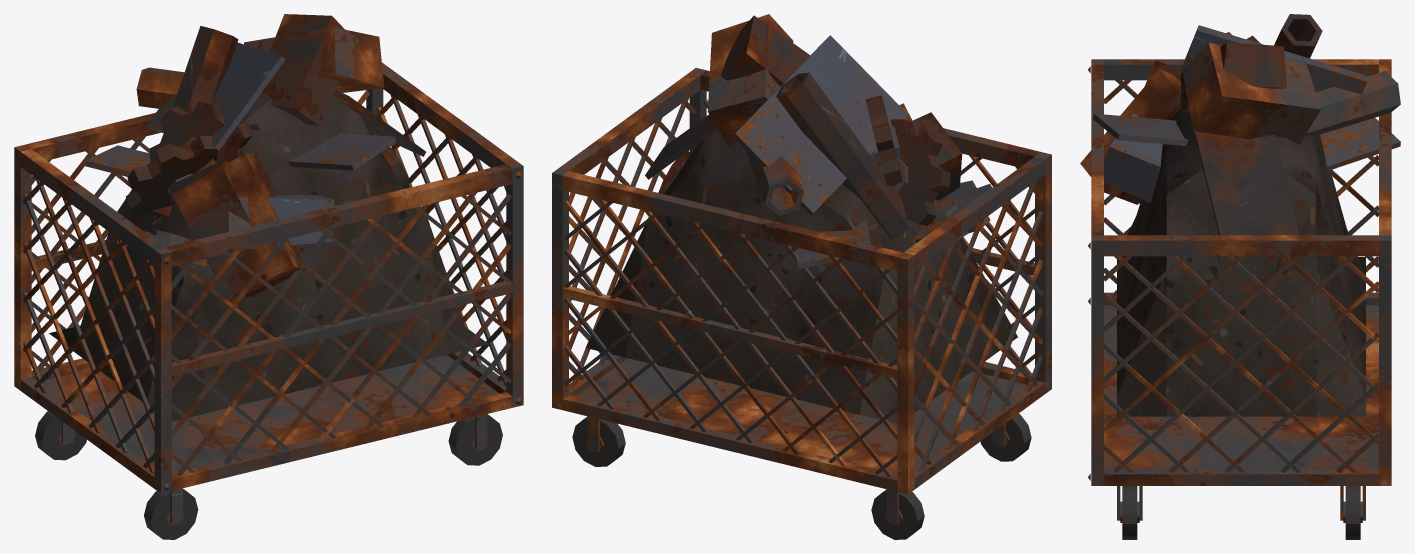
Rendered from Scrap_Basket_Full.glb.
3 renders of one model, left to right at view 1: azimuth 30°, elevation 25°; view 2: azimuth 150°, elevation 25°; view 3: azimuth 270°, elevation 25°, orthographic. The views are drawn at different scales.
Parts seen in each view (by area): view 1: Scrap_Basket_Full; view 2: Scrap_Basket_Full; view 3: Scrap_Basket_Full.
Part boxes in pixels (<box>): Scrap_Basket_Full: <box>14,14,523,539</box>; Scrap_Basket_Full: <box>552,14,1051,539</box>; Scrap_Basket_Full: <box>1080,14,1400,539</box>.
Size of the model in its own units: 1 by 1.15 by 0.7473.
Materials: 5 (4 with a texture image).
